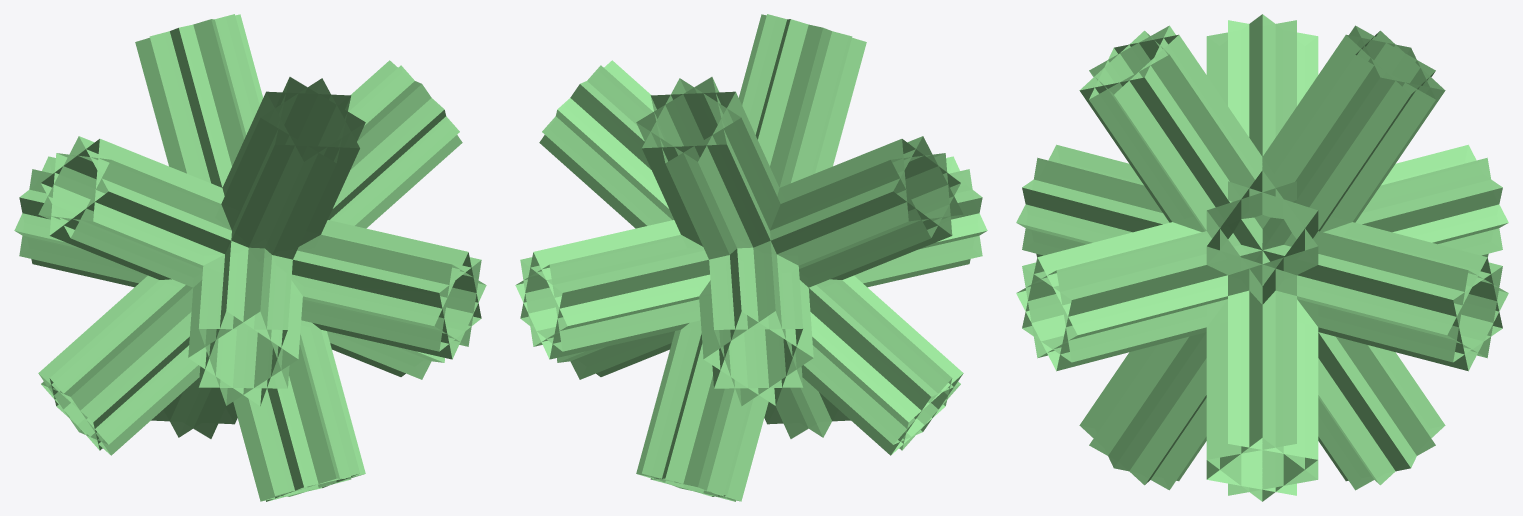
The model's file is GreatDodecahemidodecacron.obj.
3 views of the same model, side by side, from view 1: azimuth 30°, elevation 25°; view 2: azimuth 150°, elevation 25°; view 3: azimuth 270°, elevation 25° (orthographic). The views are drawn at different scales.
Bounding box in the file's own units: 13.61 × 13.61 × 13.61.
